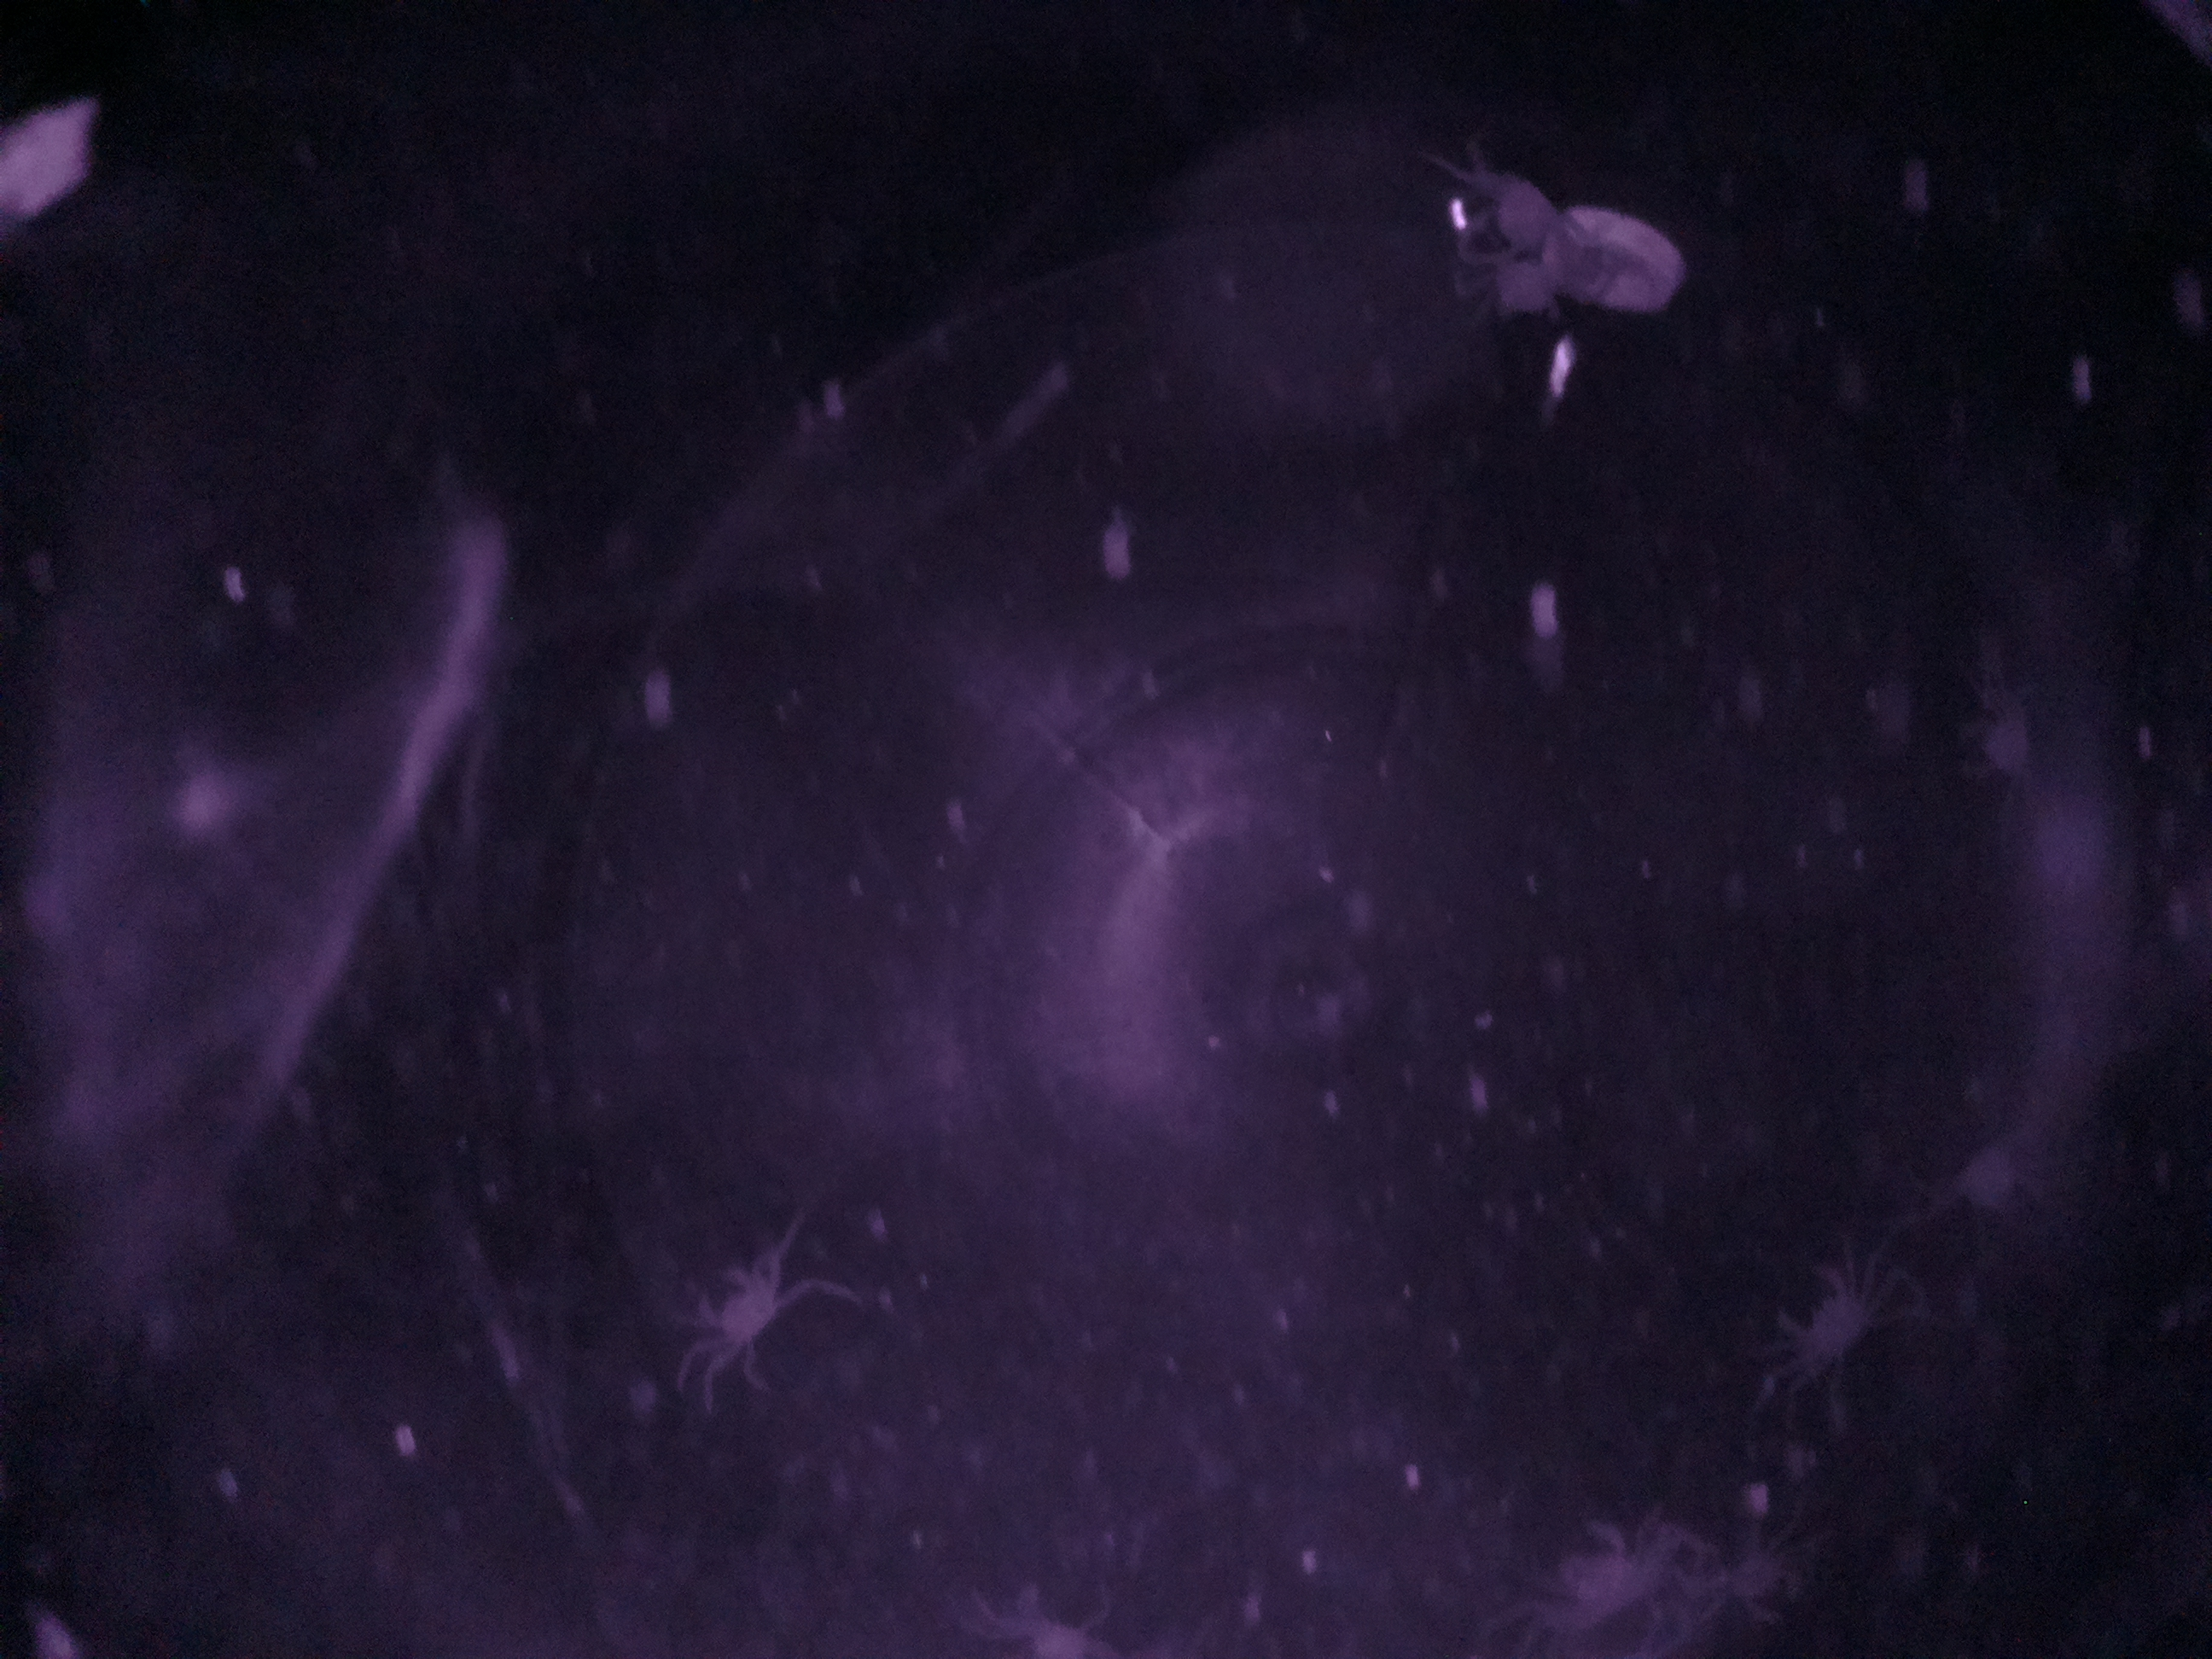Crab: (1768, 1249, 1890, 1396), (669, 1244, 805, 1368), (1463, 232, 1576, 343)
